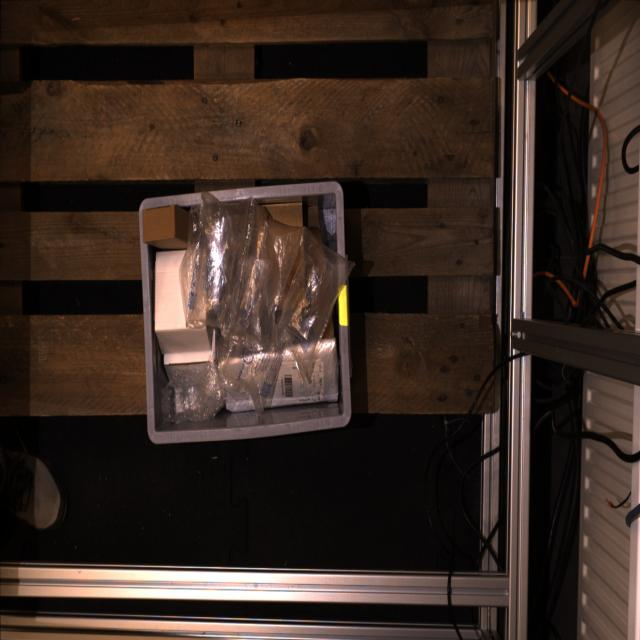CardboardBox: (155, 248, 213, 355), (253, 203, 306, 308), (303, 206, 333, 341), (163, 331, 217, 387), (142, 206, 189, 250)
Package: (223, 340, 338, 411)
PackagingAirBags: (181, 193, 350, 414), (161, 363, 225, 423)
